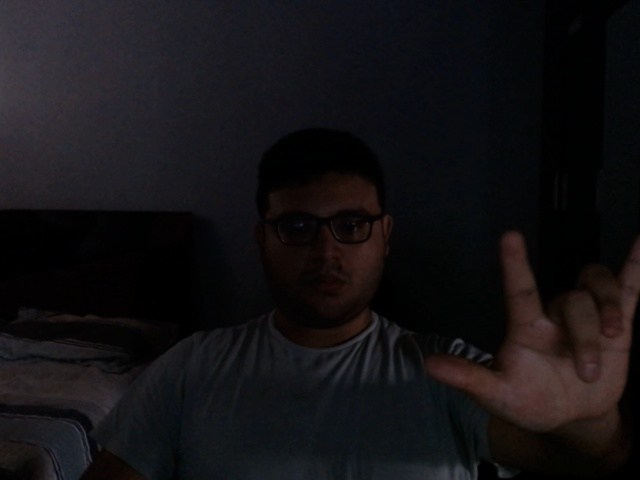I love you: (427, 200, 637, 443)
